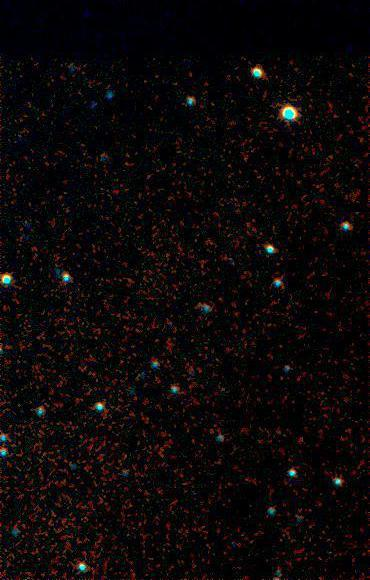star: (232, 287, 262, 317)
